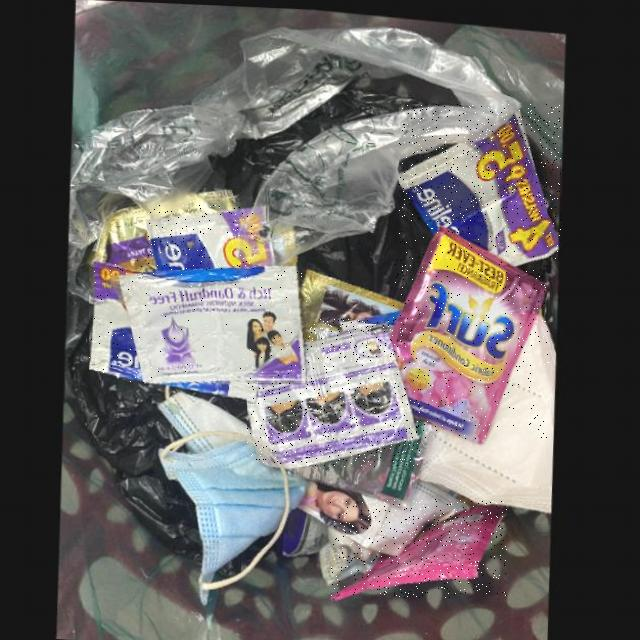wrapper: (393, 222, 549, 439), (247, 319, 420, 466), (400, 104, 561, 261), (120, 262, 308, 381), (330, 499, 507, 598), (147, 205, 254, 269), (90, 260, 143, 379)
